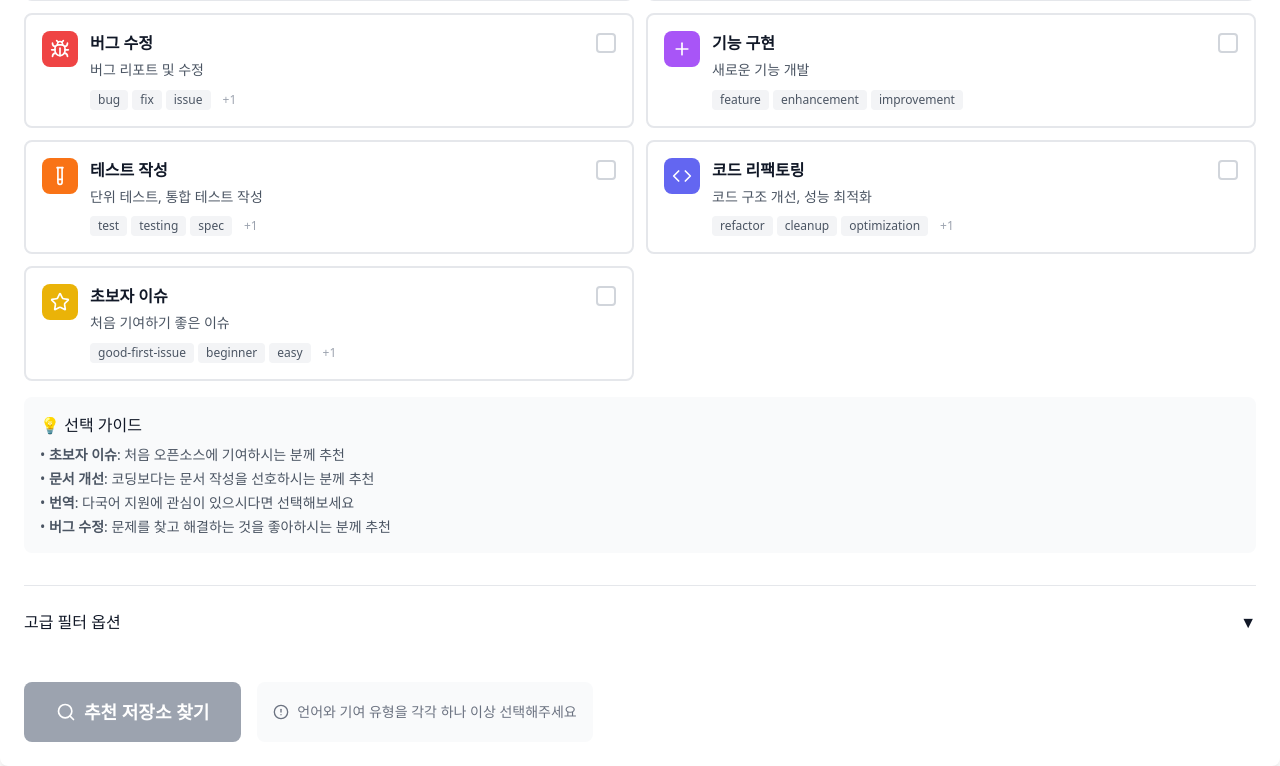
Test: SearchForm › toggles advanced filter mode correctly
(page scrolled)
Open advanced filters
Step 1. Click the text "고급 필터 옵션" → (72, 622), box [24, 610, 121, 634]
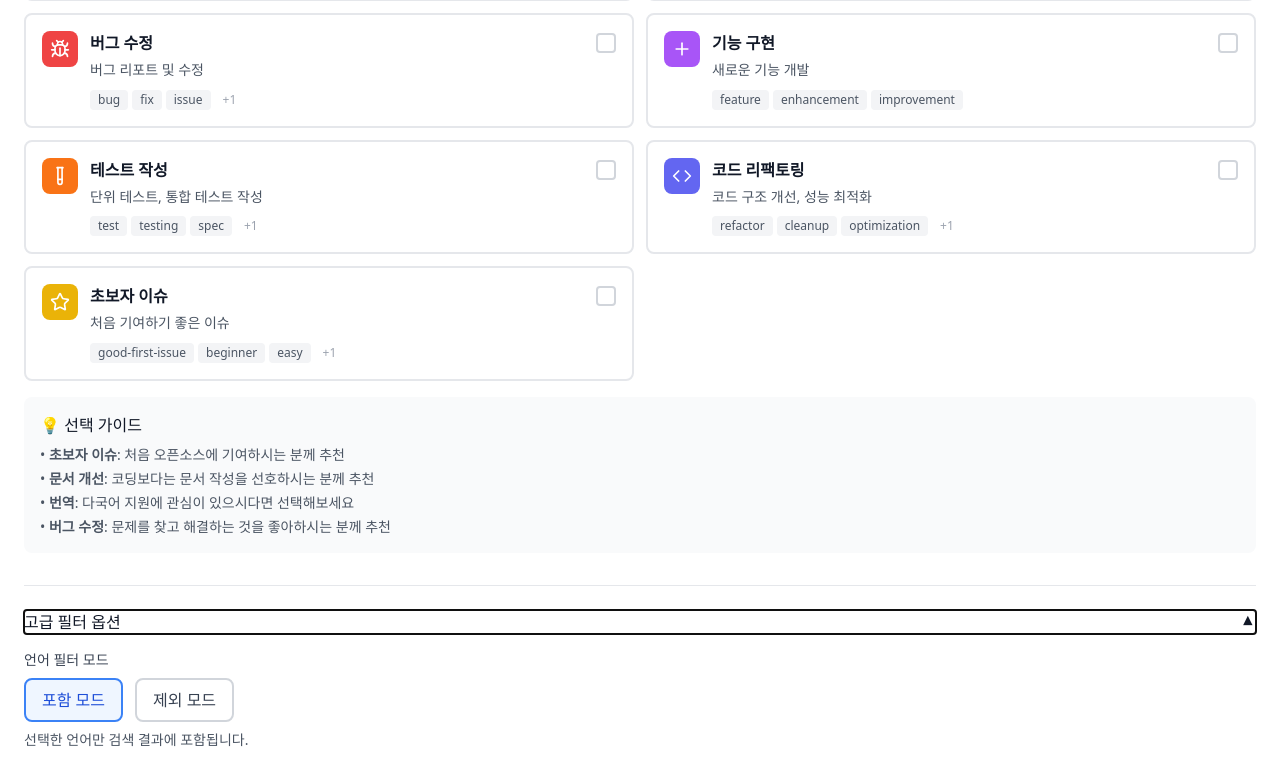
Now the text "언어 필터 모드" is shown, box [24, 650, 109, 669]
Close advanced filters
Step 2. Click the text "고급 필터 옵션" → (72, 622), box [24, 610, 121, 634]
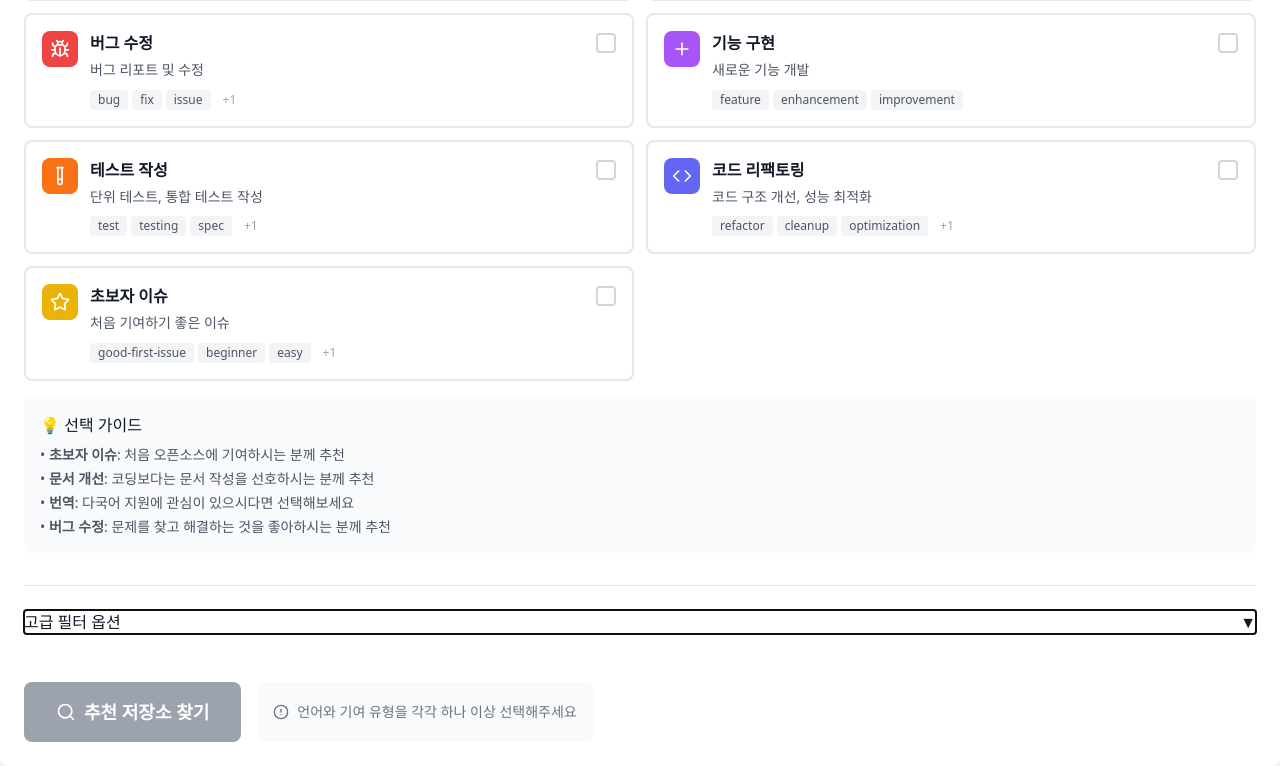
Now the text "언어 필터 모드" is gone
